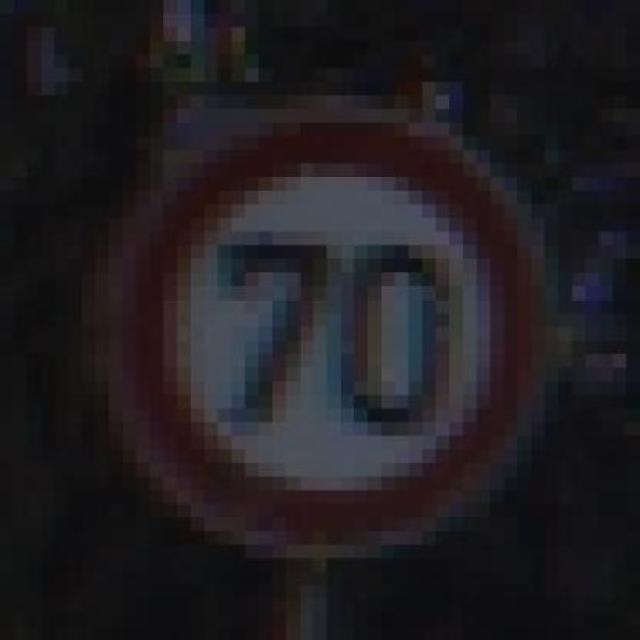forb_speed_over_70: (133, 118, 544, 545)
